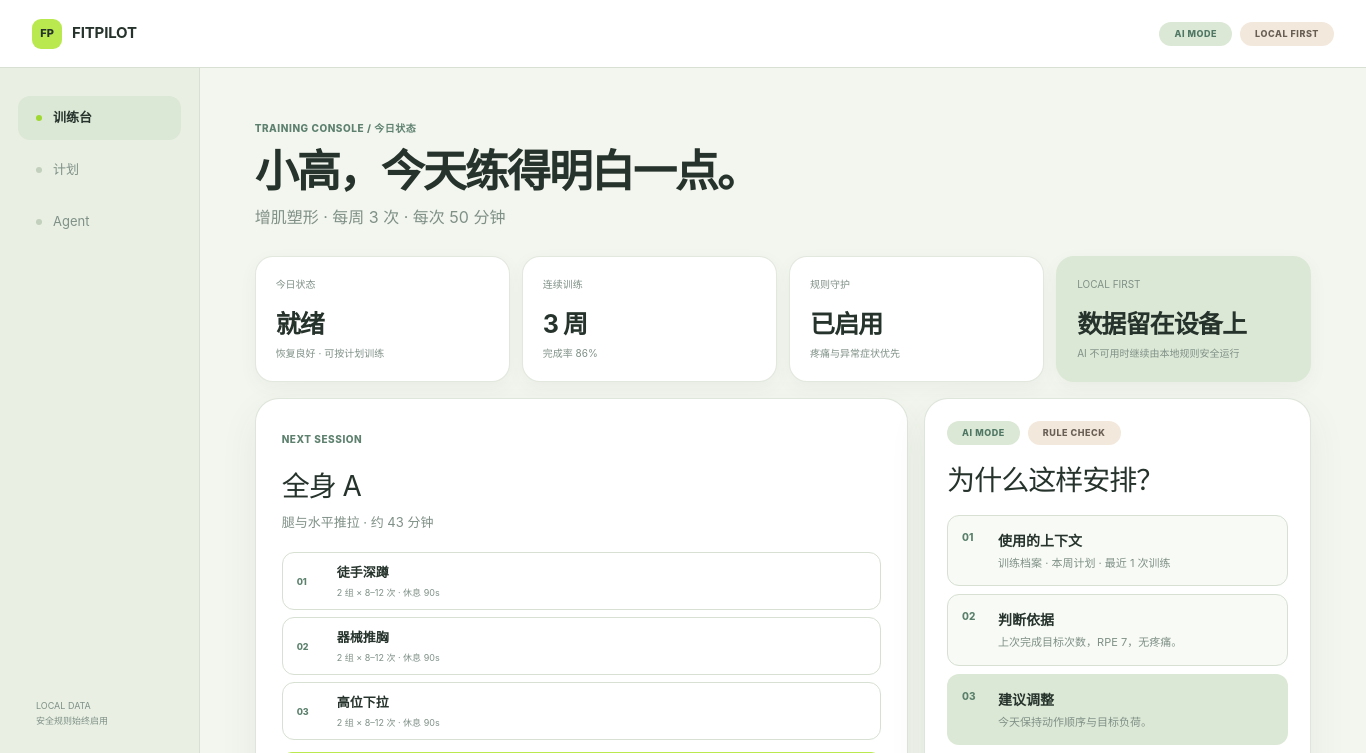
Scenario: AppShell › shows back and main-menu actions on every deep surface
Click the button "计划": (100, 170) [18,148,181,192]
(page scrolled)
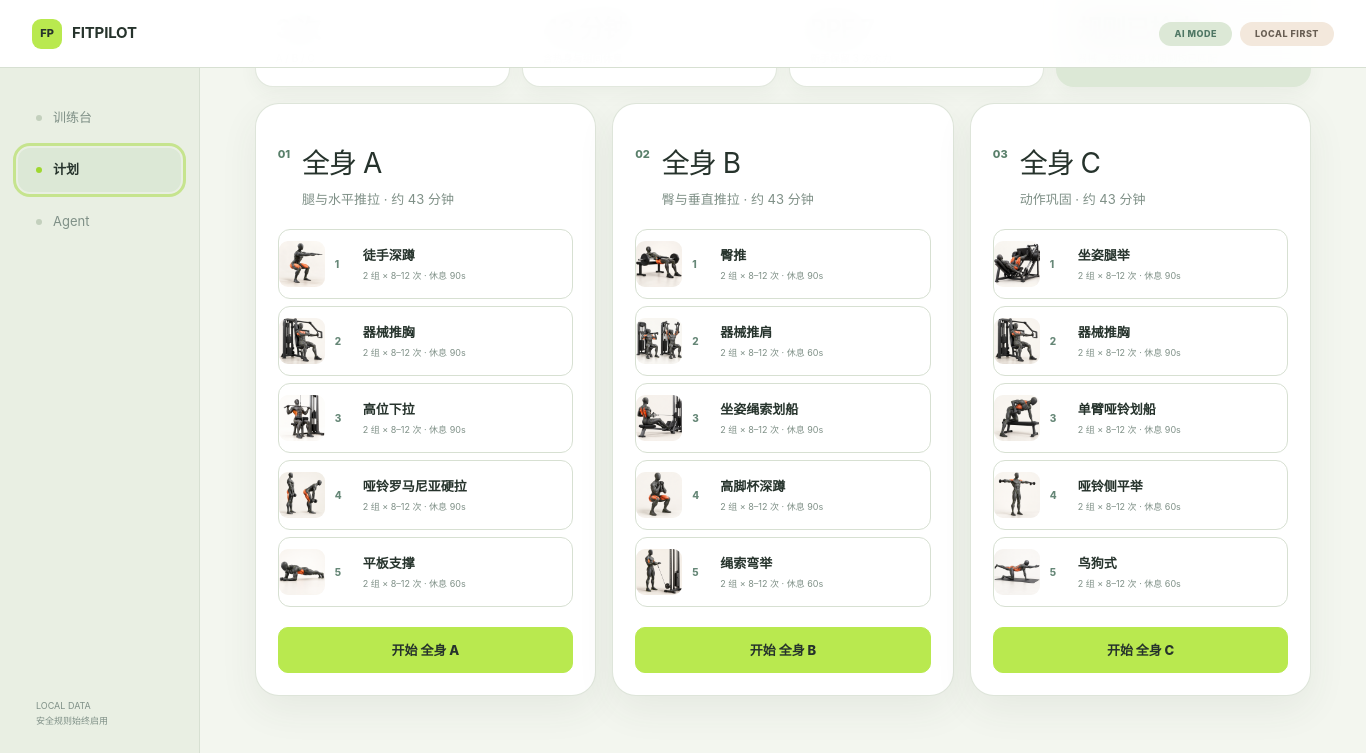
Click the button "开始 全身 A": (425, 650) [278,627,573,673]
(page scrolled)
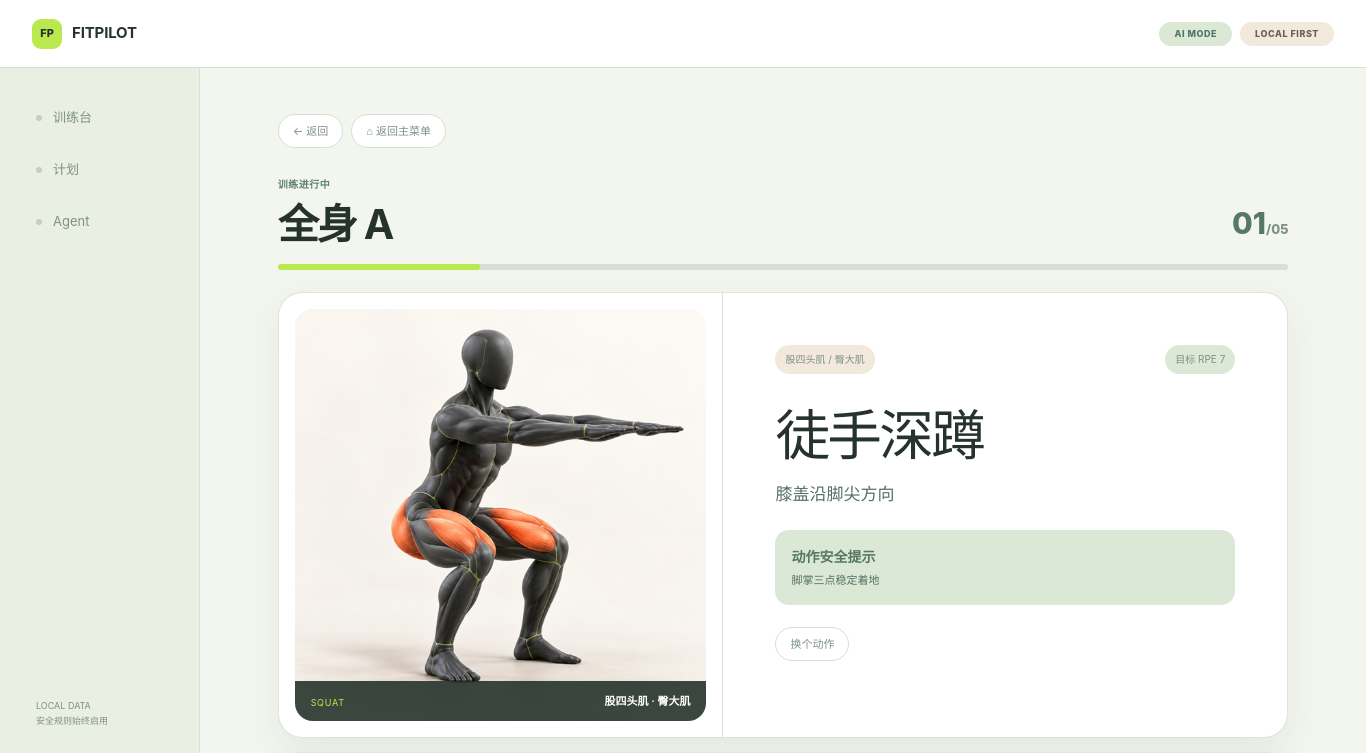
Expected: the button "← 返回" is shown, [278,114,343,148]
Expected: the button "⌂ 返回主菜单" is shown
Click the button "⌂ 返回主菜单": (399, 131) [351,114,446,148]
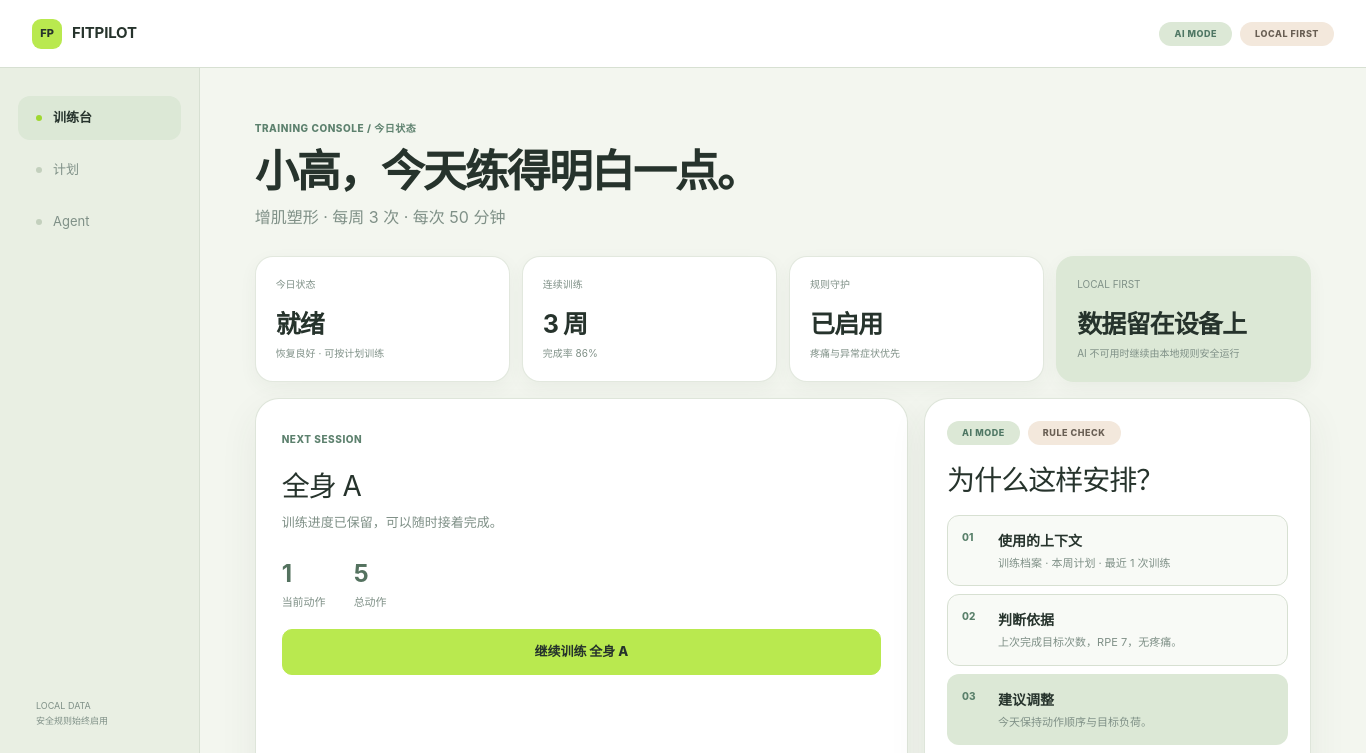
Expected: the button "继续训练 全身 A" is shown, [282,629,881,675]
Click the button "Agent": (100, 222) [18,200,181,244]
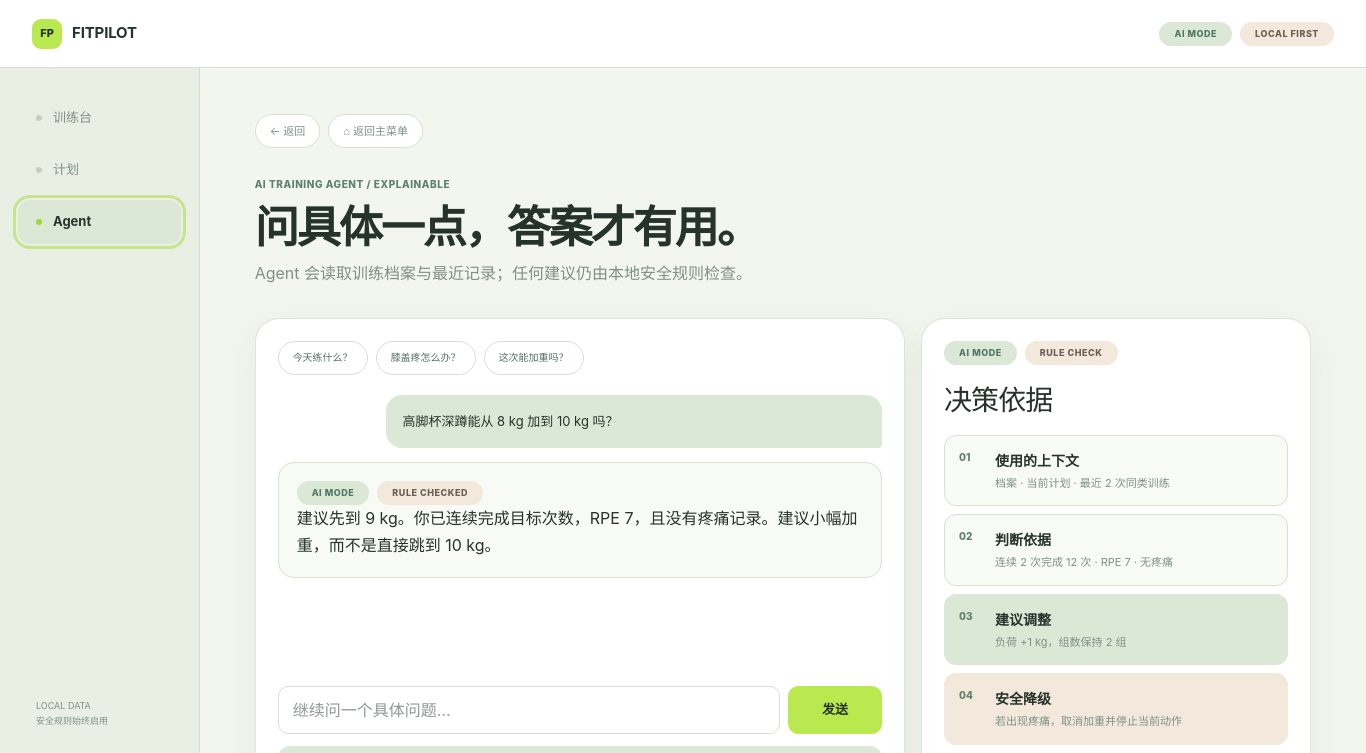
Expected: the button "← 返回" is shown, [255,114,320,148]
Expected: the button "⌂ 返回主菜单" is shown, [328,114,423,148]
